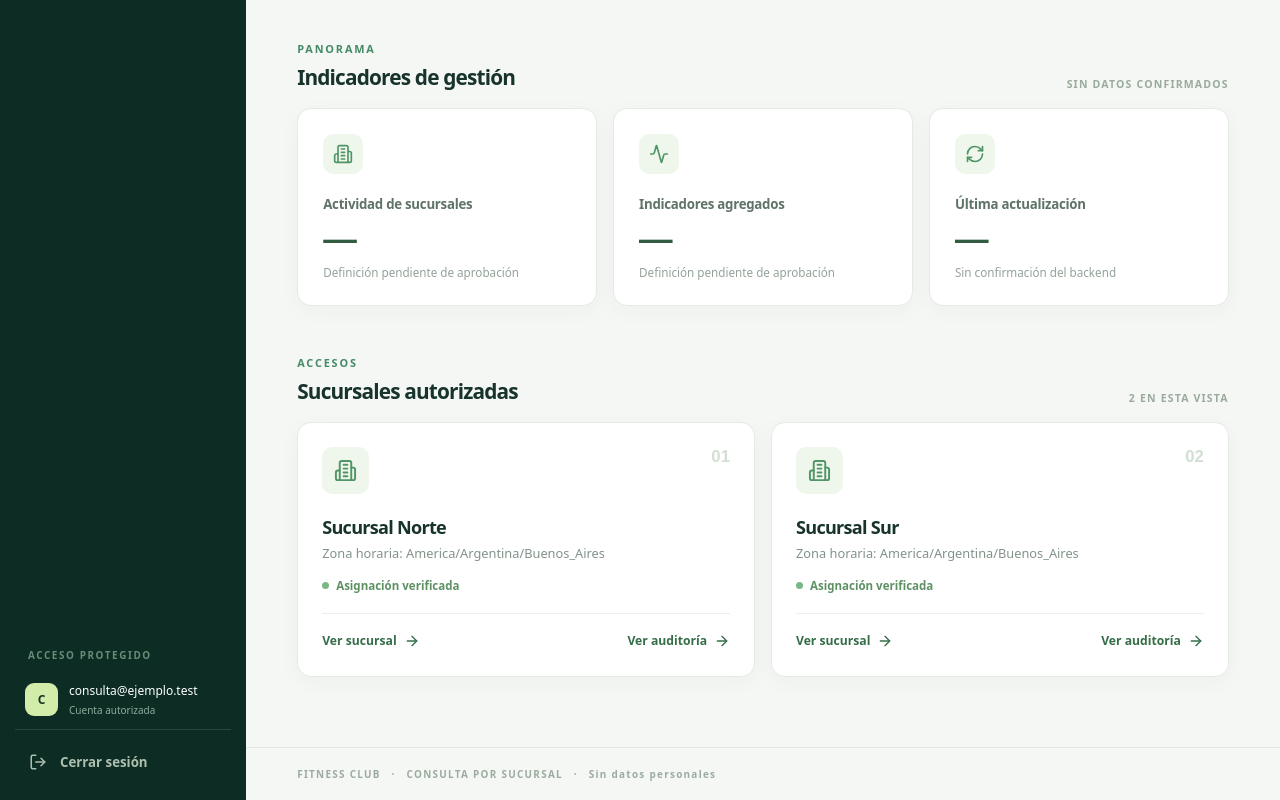
Test case: acceso › cierra sesión y retira la vista privada
The image size is (1280, 800).
(page scrolled)
expect the heading "Sucursal Norte" is shown: met, box [322,515,446,539]
Click the button "Cerrar sesión".
click(123, 762)  # box [15,740,231,784]
(page scrolled)
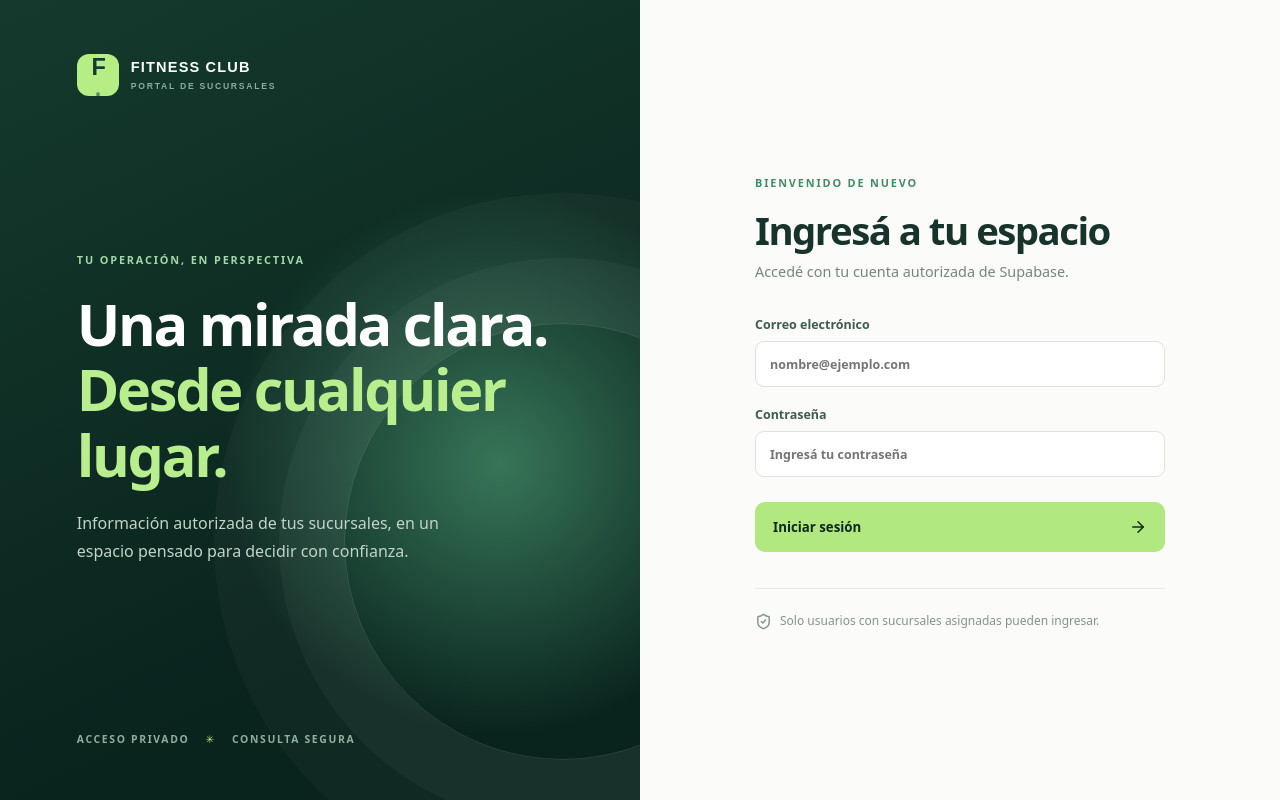
expect the heading "Ingresá a tu espacio" is shown: met, box [755,204,1165,256]
